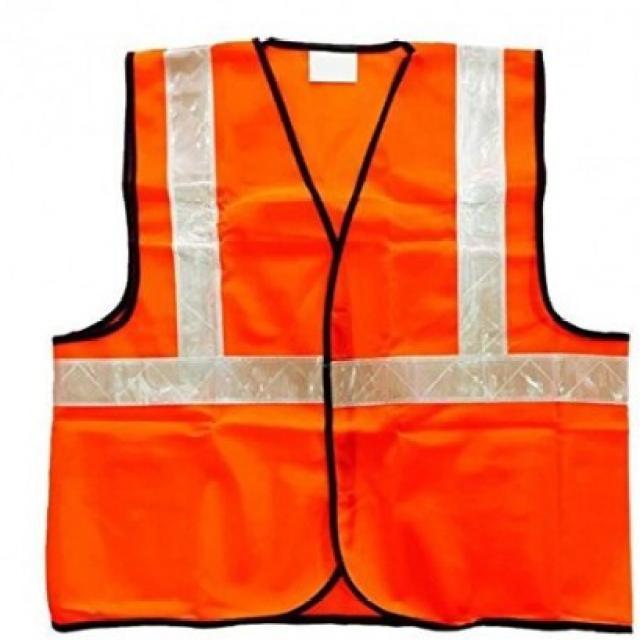construction-vest: (52, 43, 626, 635)
